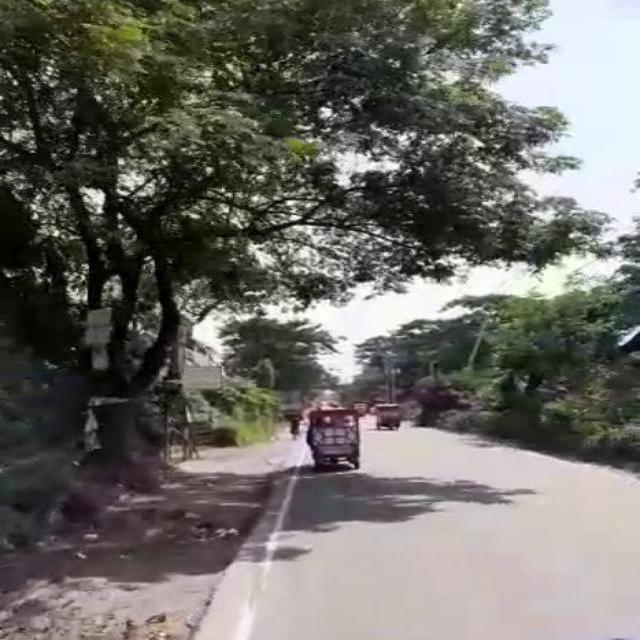vehicle: (308, 407, 367, 465), (373, 401, 398, 428)
